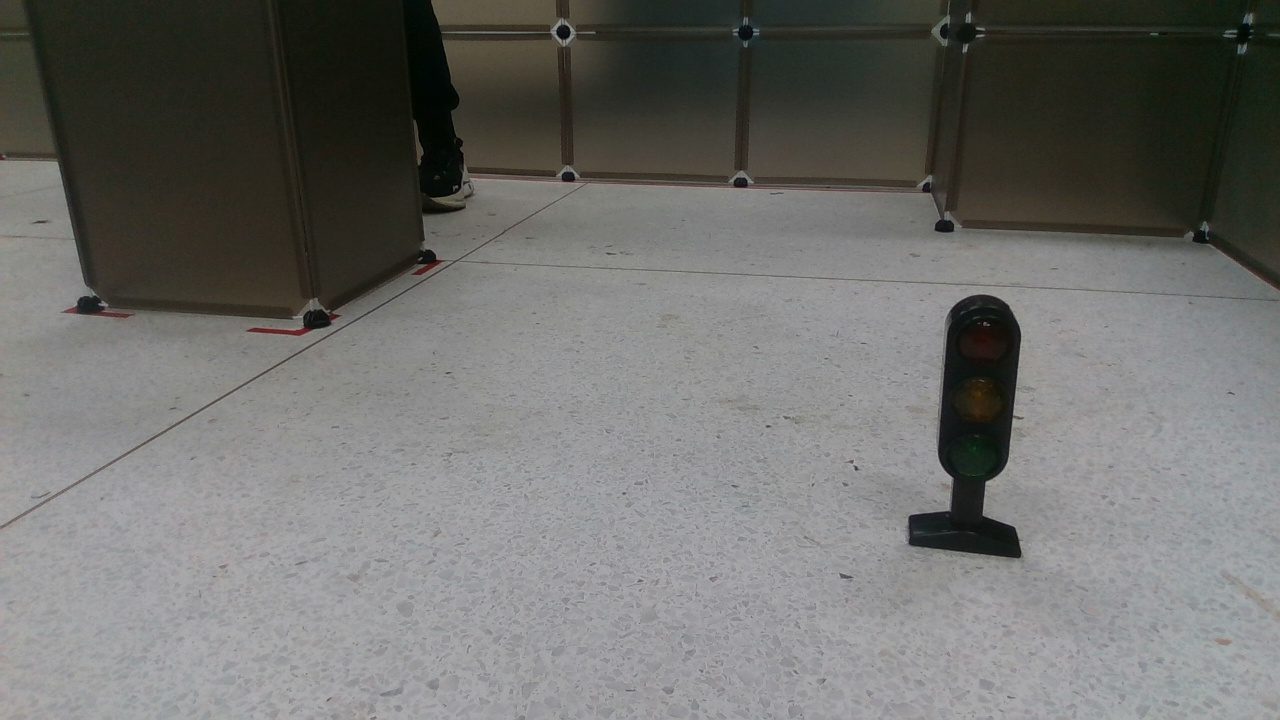Dim traffic light: (906, 295, 1027, 560)
